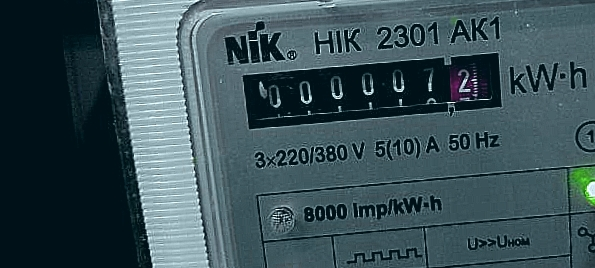0: (264, 80, 283, 108), (296, 76, 314, 104), (358, 68, 376, 96), (327, 71, 344, 100), (389, 66, 406, 95)
2: (455, 67, 472, 94)
7: (420, 63, 437, 94)
screen: (230, 45, 514, 134)
